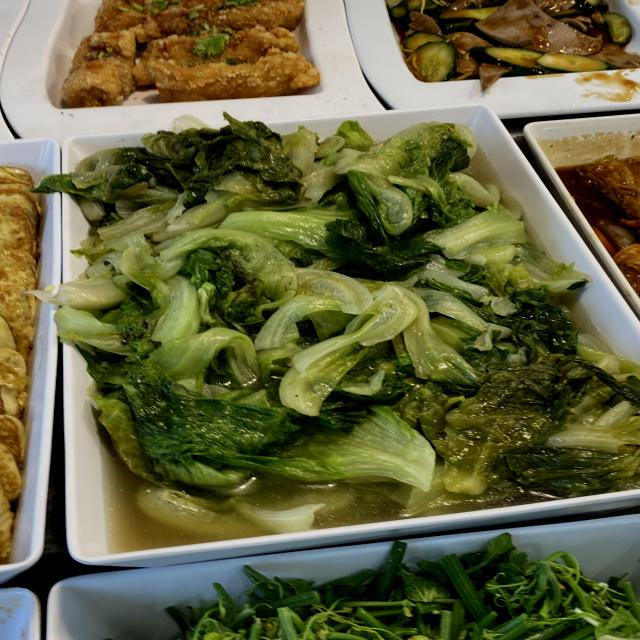Fushan-lettuce: (138, 165, 502, 458)
